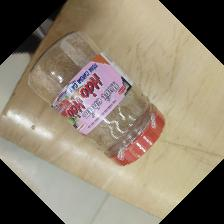Hao_hao: (27, 29, 166, 165)
